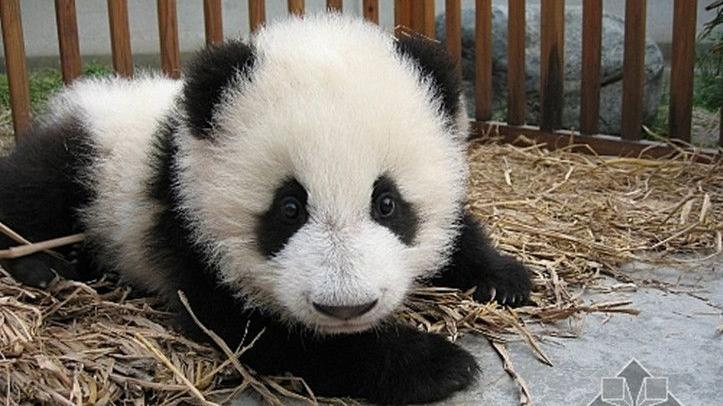panda: (7, 8, 534, 388)
